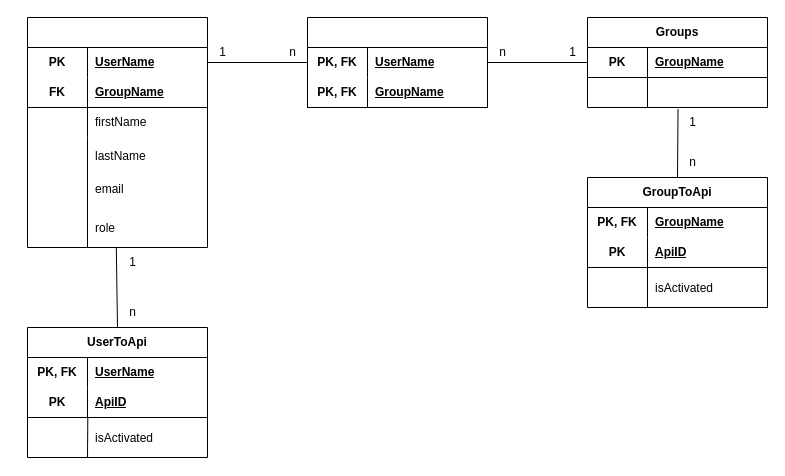
Some shapes in this 785 by 476 pixel diagram are drawn without their labels. The shapes that lost their labels are listed below. From the top down, each one's box as (x1, y1, x2, y2) in pixels, then its label:
(306, 16, 488, 108): UserToGroup
(26, 16, 208, 248): Users
